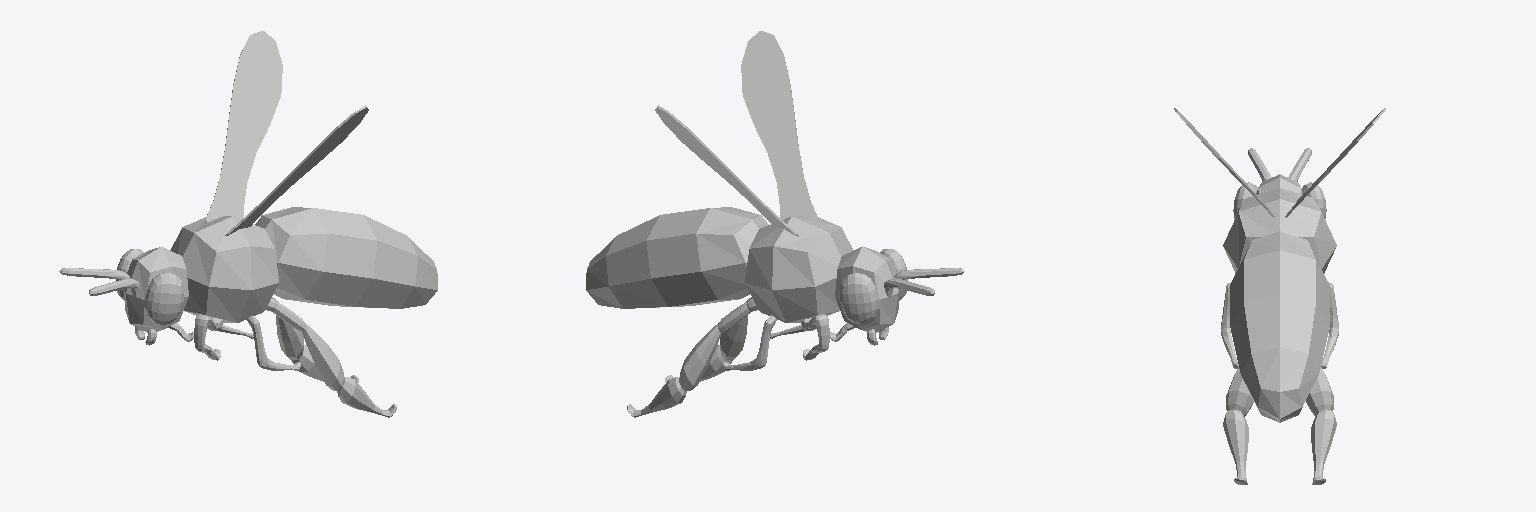
Rendered from insect.obj.
The picture shows the model from 3 angles: view 1: azimuth 30°, elevation 25°; view 2: azimuth 150°, elevation 25°; view 3: azimuth 270°, elevation 25°; orthographic projection.
Parts seen in each view (by area): view 1: Cube.002_Cube.003, Plane, Cube_Cube.001, Cube.005_Cube.008, Cube.001_Cube.002, Cube.006_Cube.009, Cube.007_Cube.010, Cube.003_Cube.006, Cube.004_Cube.007; view 2: Cube.002_Cube.003, Plane, Cube_Cube.001, Cube.005_Cube.008, Cube.001_Cube.002, Cube.006_Cube.009, Cube.007_Cube.010, Cube.003_Cube.006, Cube.004_Cube.007; view 3: Cube.002_Cube.003, Cube_Cube.001, Cube.005_Cube.008, Cube.004_Cube.007, Plane, Cube.006_Cube.009, Cube.007_Cube.010, Cube.001_Cube.002.
Boxes of the visible parts, x1=… form: Cube.002_Cube.003: x1=255, y1=207, x2=437, y2=308; Plane: x1=206, y1=31, x2=368, y2=235; Cube_Cube.001: x1=170, y1=216, x2=278, y2=322; Cube.005_Cube.008: x1=266, y1=297, x2=396, y2=417; Cube.001_Cube.002: x1=123, y1=247, x2=188, y2=332; Cube.006_Cube.009: x1=116, y1=249, x2=183, y2=324; Cube.007_Cube.010: x1=59, y1=268, x2=139, y2=297; Cube.003_Cube.006: x1=168, y1=314, x2=222, y2=360; Cube.004_Cube.007: x1=219, y1=315, x2=300, y2=370; Cube.002_Cube.003: x1=586, y1=207, x2=768, y2=308; Plane: x1=655, y1=31, x2=817, y2=236; Cube_Cube.001: x1=745, y1=216, x2=853, y2=322; Cube.005_Cube.008: x1=627, y1=297, x2=757, y2=417; Cube.001_Cube.002: x1=835, y1=246, x2=900, y2=332; Cube.006_Cube.009: x1=840, y1=249, x2=907, y2=324; Cube.007_Cube.010: x1=884, y1=268, x2=964, y2=297; Cube.003_Cube.006: x1=801, y1=314, x2=855, y2=360; Cube.004_Cube.007: x1=723, y1=315, x2=804, y2=370; Cube.002_Cube.003: x1=1230, y1=231, x2=1329, y2=422; Cube_Cube.001: x1=1223, y1=188, x2=1336, y2=272; Cube.005_Cube.008: x1=1223, y1=367, x2=1336, y2=484; Cube.004_Cube.007: x1=1221, y1=283, x2=1338, y2=368; Plane: x1=1174, y1=108, x2=1385, y2=217; Cube.006_Cube.009: x1=1233, y1=182, x2=1326, y2=218; Cube.007_Cube.010: x1=1248, y1=148, x2=1311, y2=181; Cube.001_Cube.002: x1=1256, y1=174, x2=1302, y2=194.
Bounding box in the file's own units: 3.83 × 3.5 × 1.94.